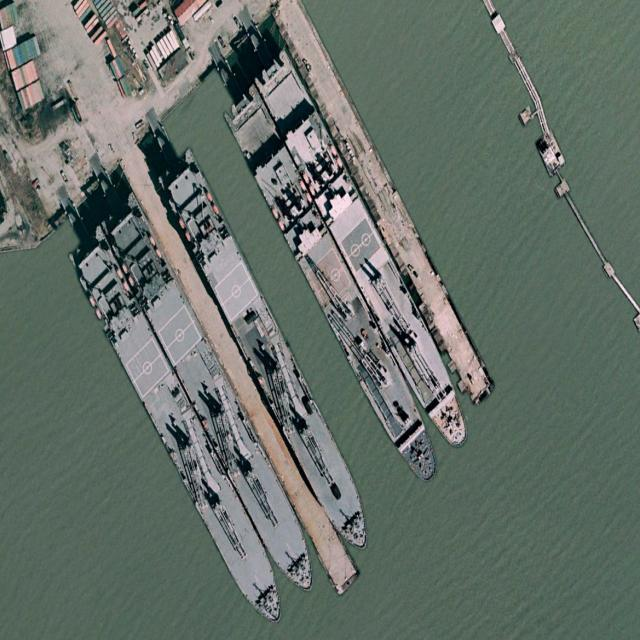Cargo: (99, 188, 329, 606), (64, 223, 296, 637), (156, 145, 380, 567), (253, 44, 478, 462), (221, 83, 448, 496)
